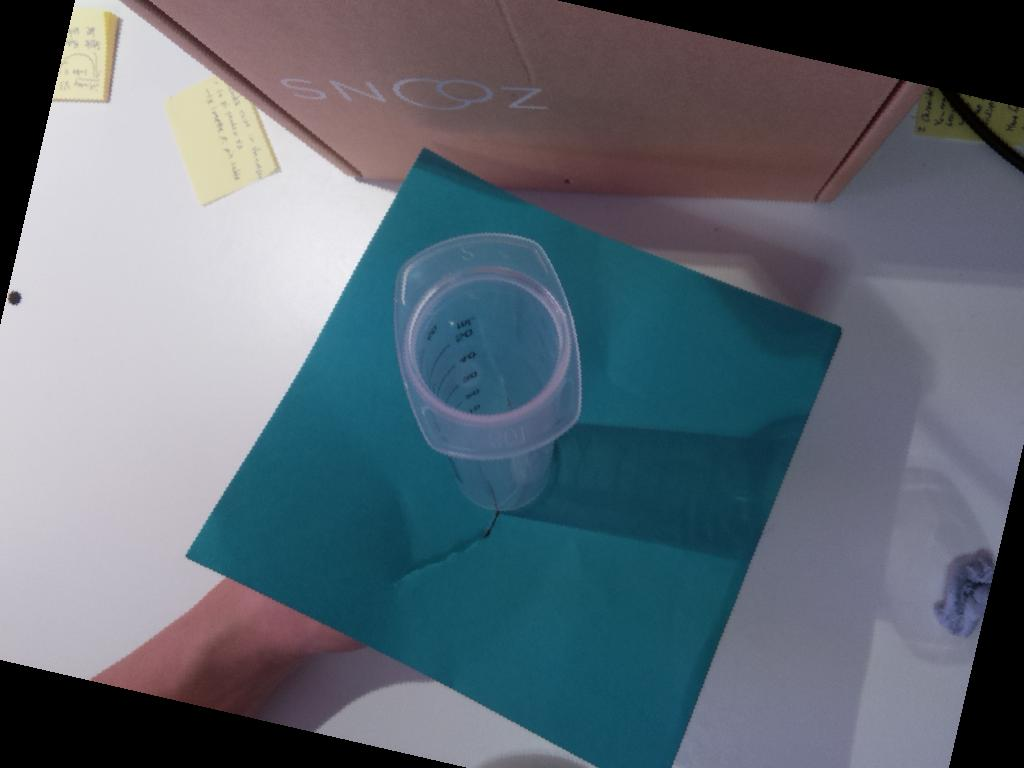clean: (389, 228, 585, 463)
